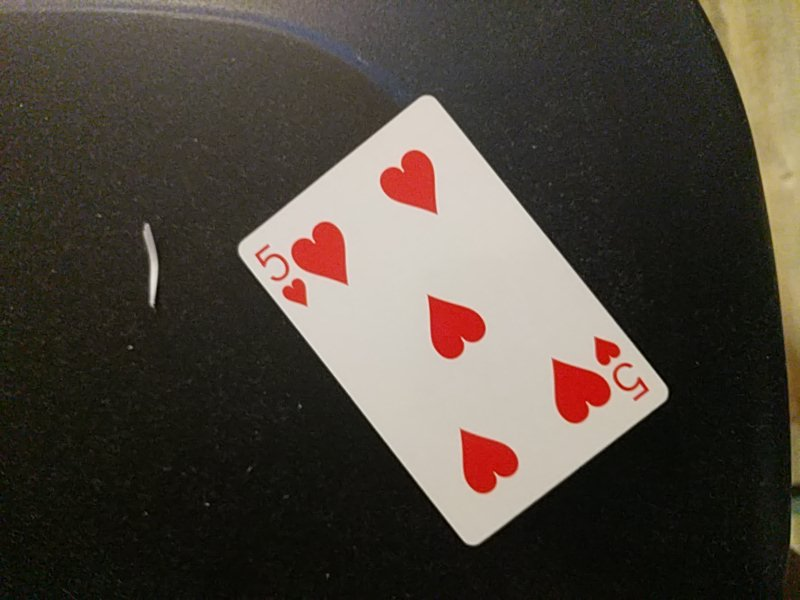Hearts: (235, 95, 670, 548)
